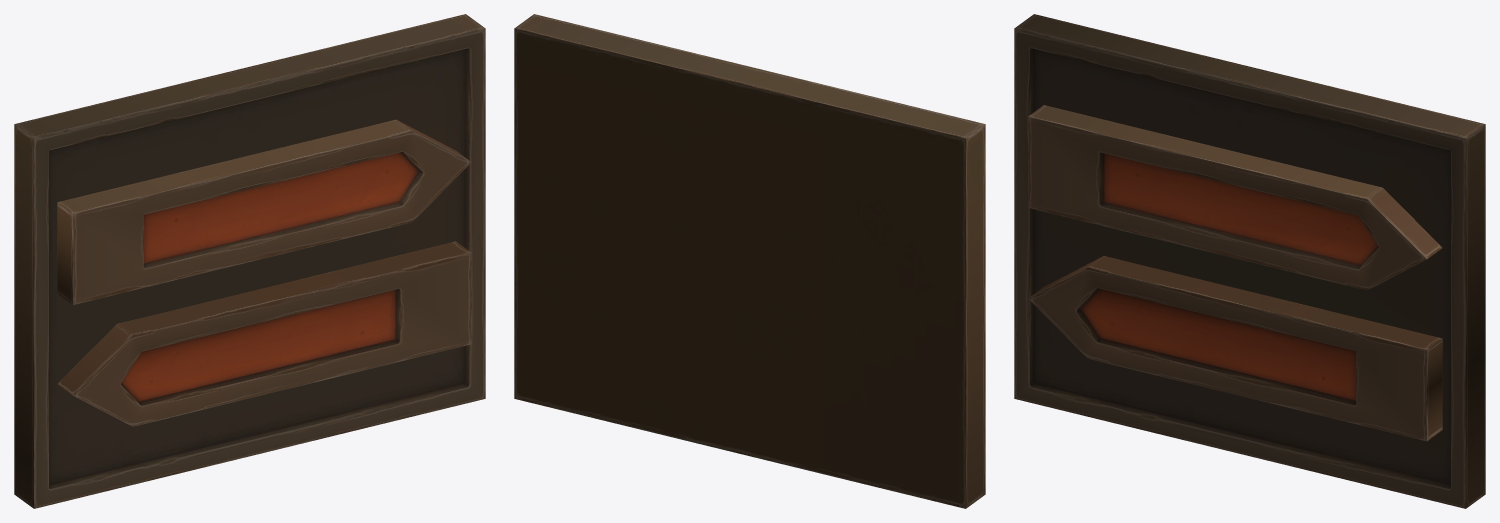
The model's file is SM_SignBoard_01_E.glb.
The picture shows the model from 3 angles, left to right: view 1: azimuth 30°, elevation 25°; view 2: azimuth 150°, elevation 25°; view 3: azimuth 330°, elevation 25°; orthographic projection.
Parts seen in each view (by area): view 1: SM_SignBoard_01_E; view 2: SM_SignBoard_01_E; view 3: SM_SignBoard_01_E.
Boxes of the visible parts, <box> form: SM_SignBoard_01_E: <box>14,14,485,508</box>; SM_SignBoard_01_E: <box>514,14,985,508</box>; SM_SignBoard_01_E: <box>1014,14,1485,508</box>.
Size of the model in its own units: 1.39 by 1.09 by 0.1719.
Materials: 1 (1 with a texture image).
